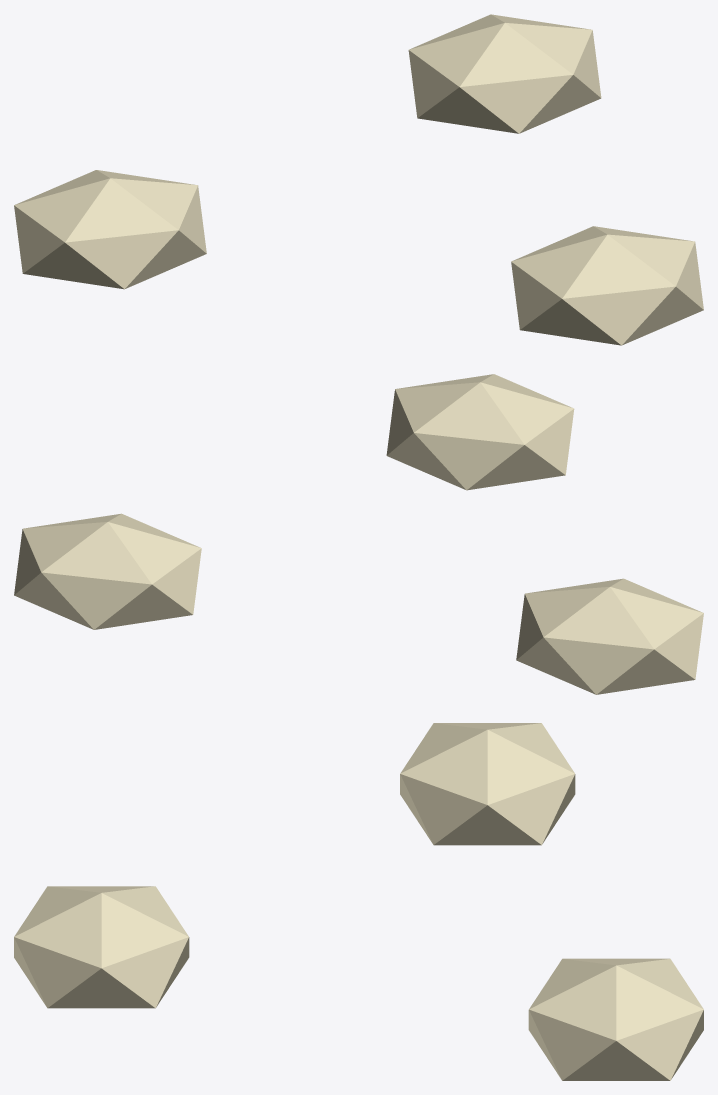
Rendered from CC_CropFungus_Planted.fbx.
3 views of the same model, one above another, from view 1: azimuth 30°, elevation 25°; view 2: azimuth 150°, elevation 25°; view 3: azimuth 270°, elevation 25° (orthographic). The views are drawn at different scales.
Visible parts, largest first — view 1: Living root.001, Living root, Living root.002; view 2: Living root.002, Living root, Living root.001; view 3: Living root.001, Living root.002, Living root.
Boxes of the visible parts, <box> form: Living root.001: <box>408,14,601,133</box>; Living root: <box>14,170,206,289</box>; Living root.002: <box>511,226,703,345</box>; Living root.002: <box>386,374,574,490</box>; Living root: <box>516,578,703,694</box>; Living root.001: <box>14,513,201,629</box>; Living root.001: <box>528,958,703,1080</box>; Living root.002: <box>14,886,189,1008</box>; Living root: <box>400,723,575,845</box>.
Bounding box in the file's own units: 1.35 × 0.21 × 1.21.
